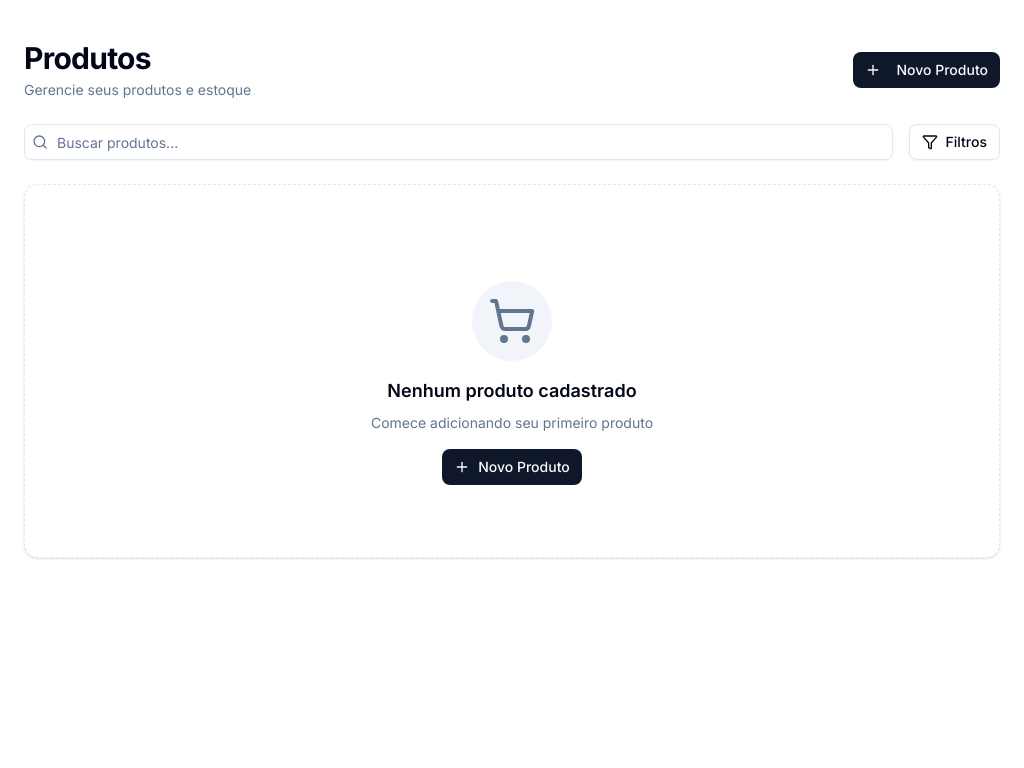
ProductsPage › deve abrir o modal ao clicar em Novo Produto
Click the button "Novo Produto" in the row of "Gerencie seus produtos e estoque" at (926, 70), box [852,52,1000,88]
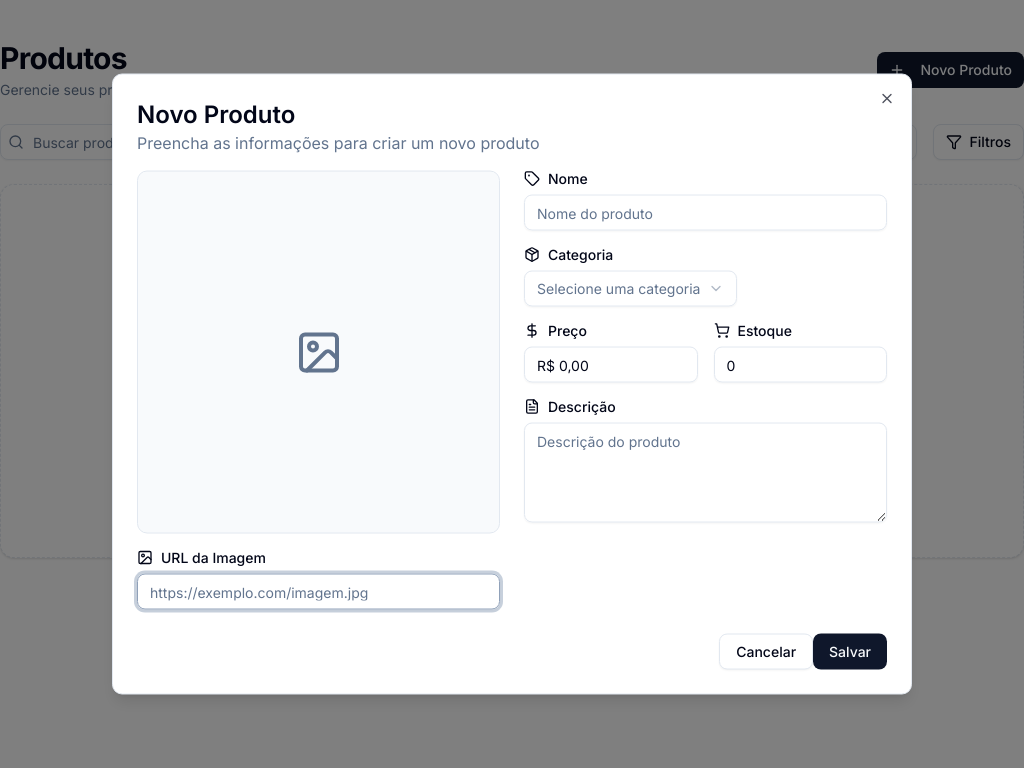
Check: the dialog is shown
